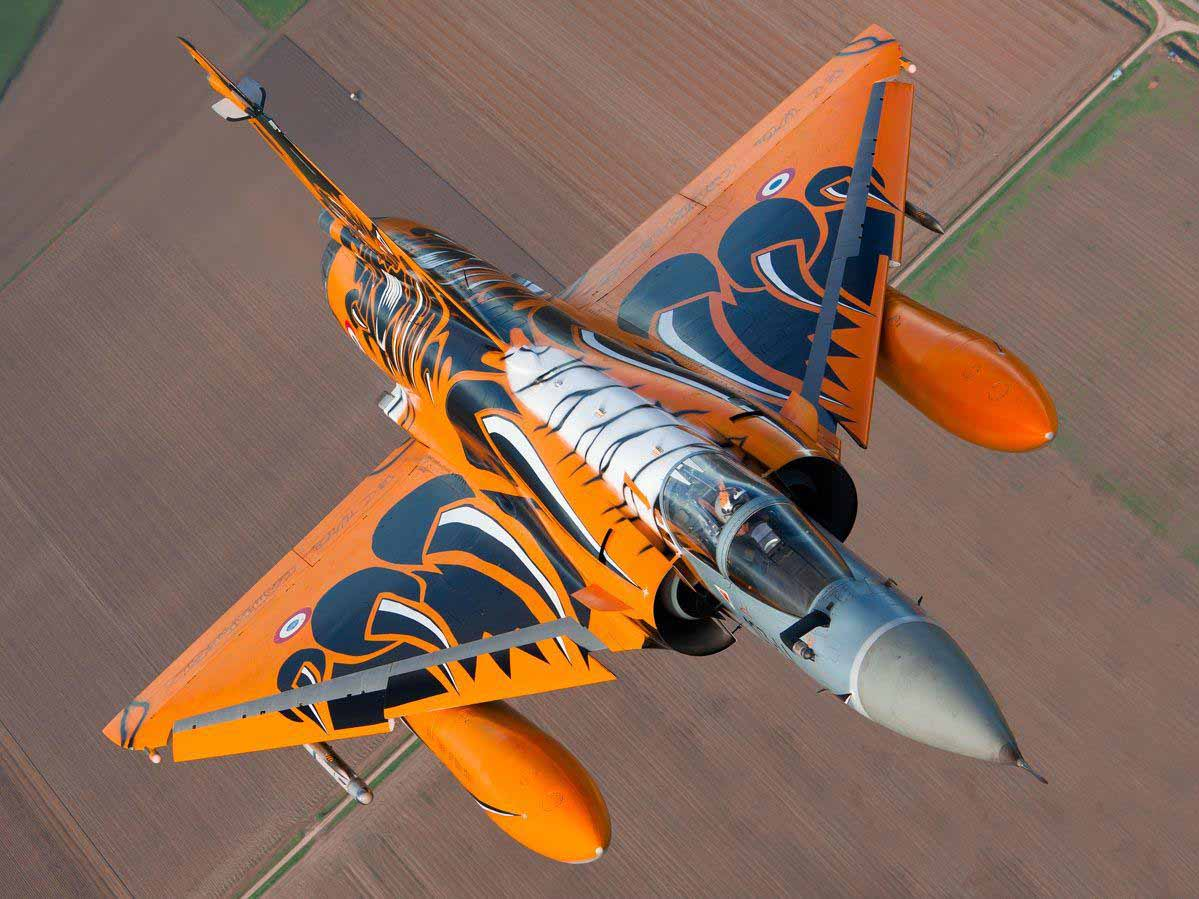Mirage2000: (98, 24, 1056, 866)
